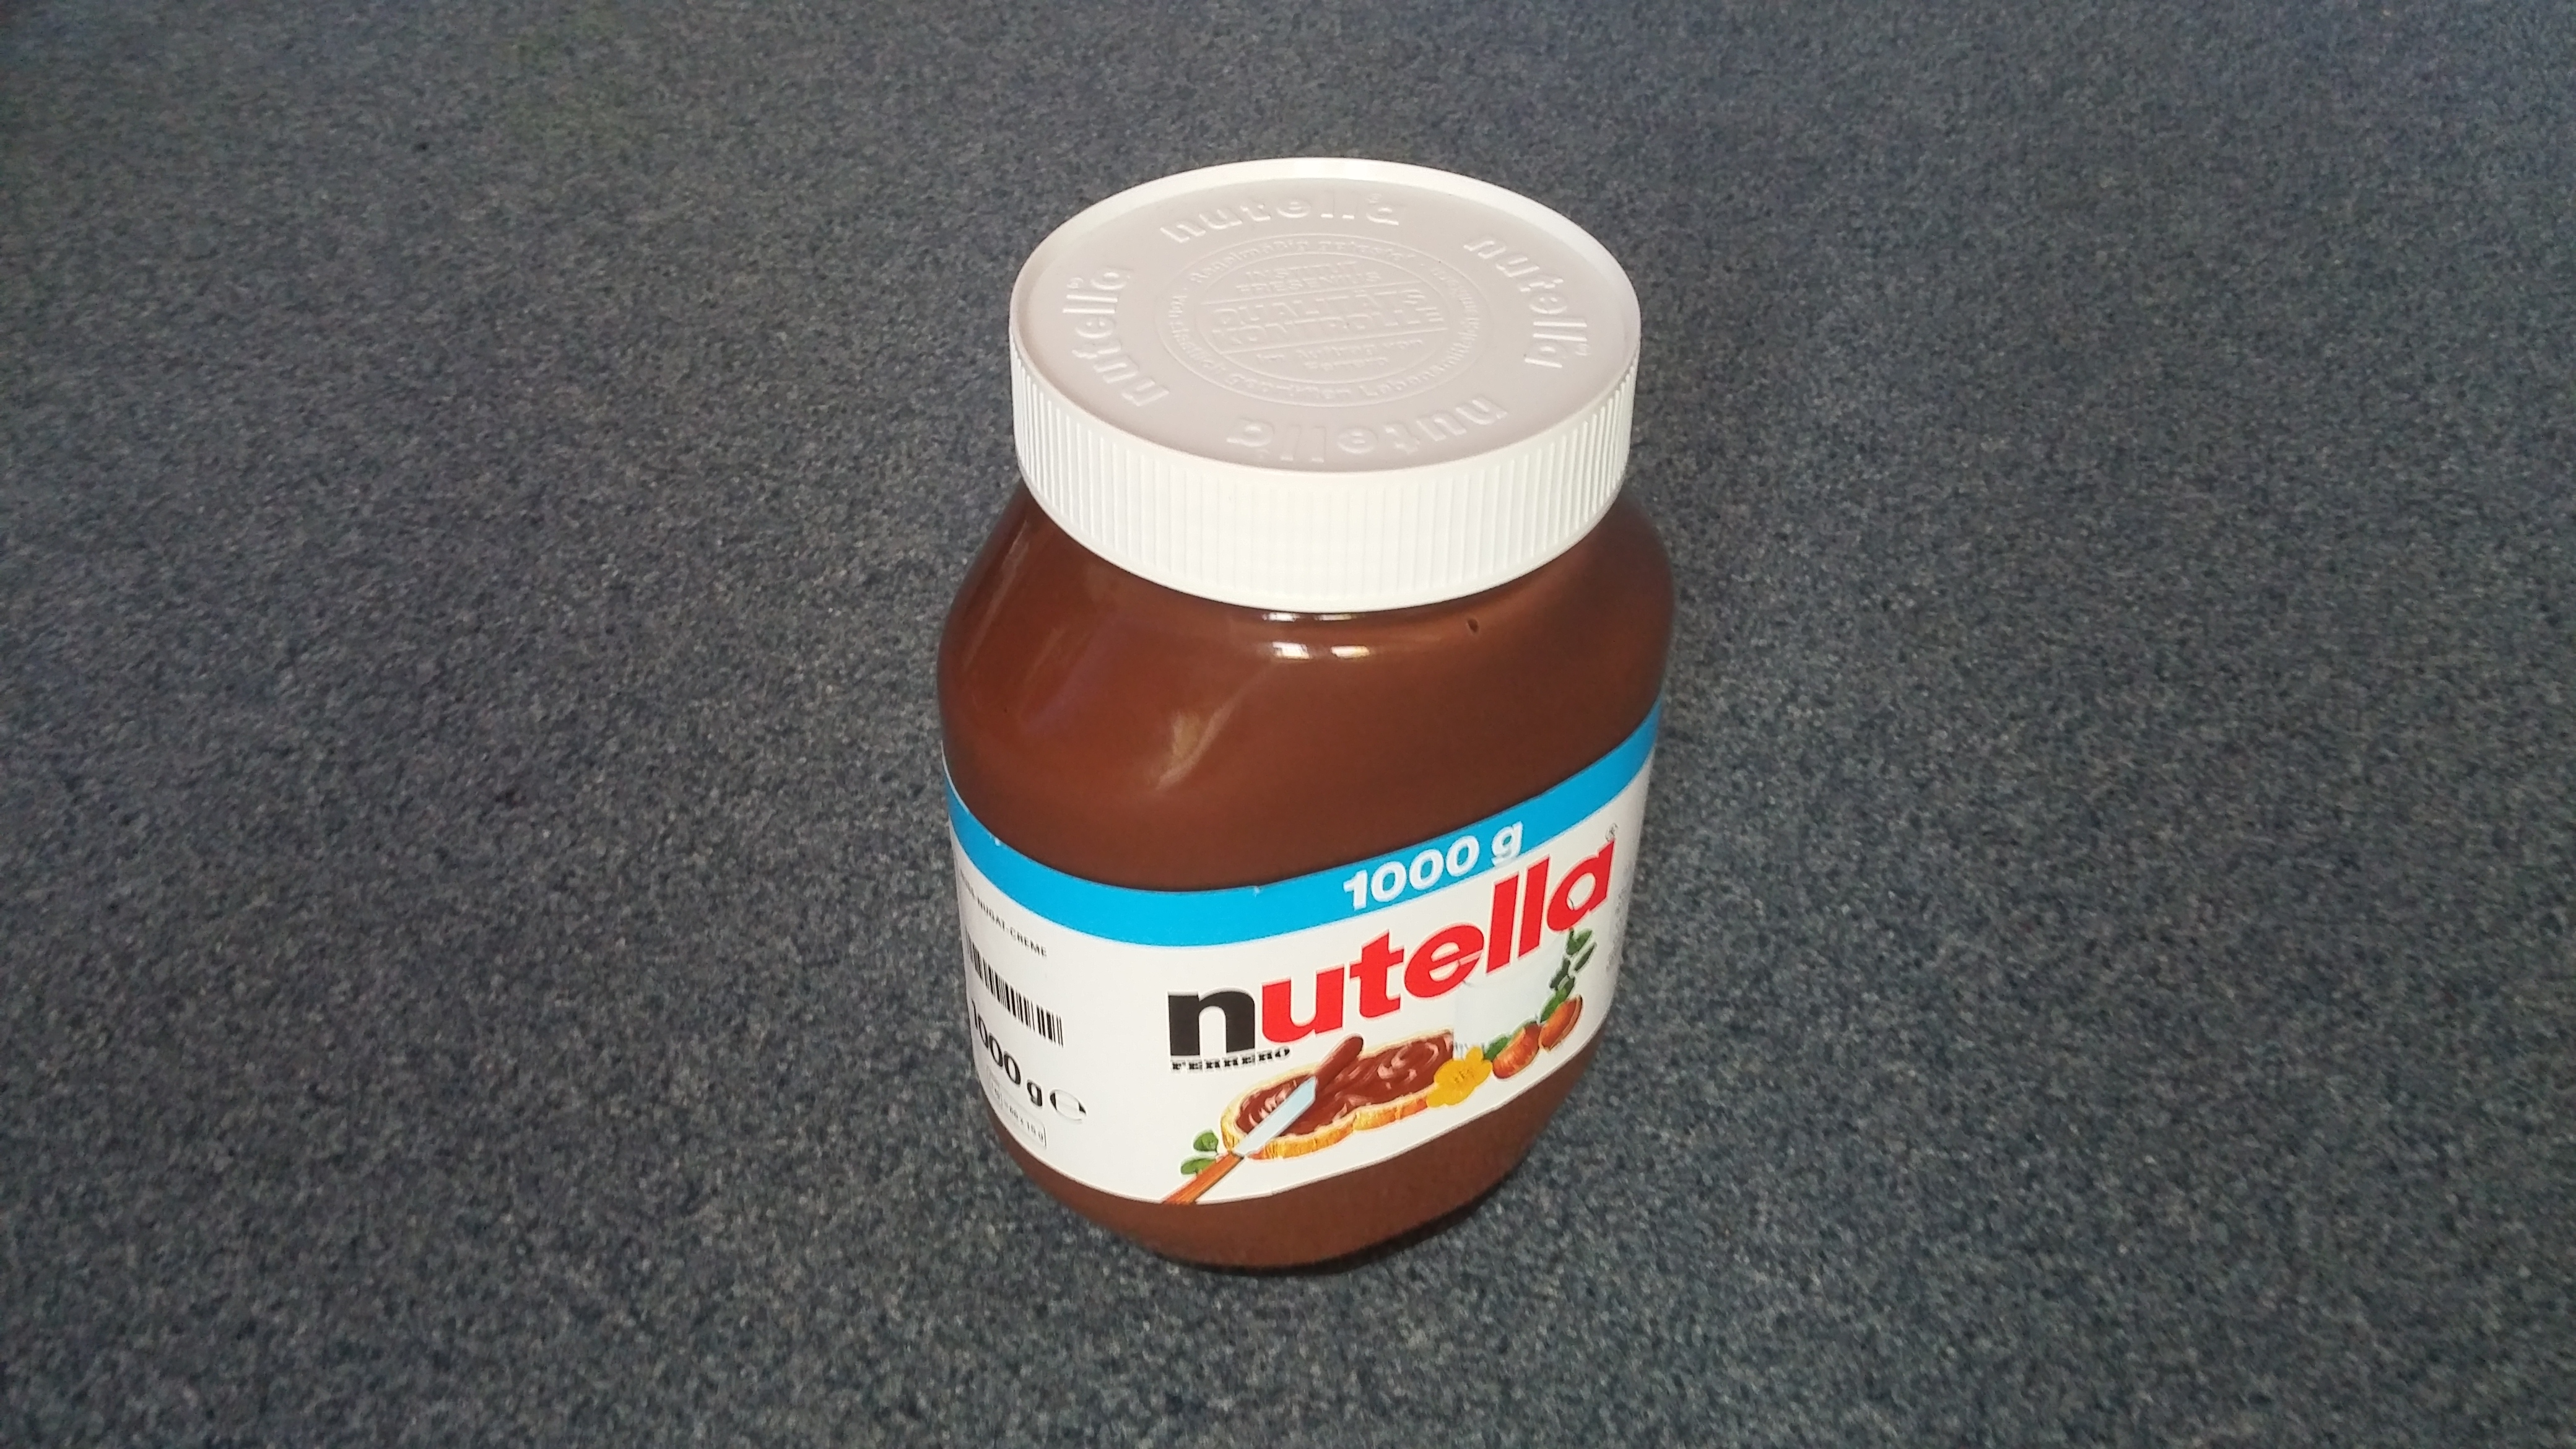nutella: (938, 154, 1679, 1274)
